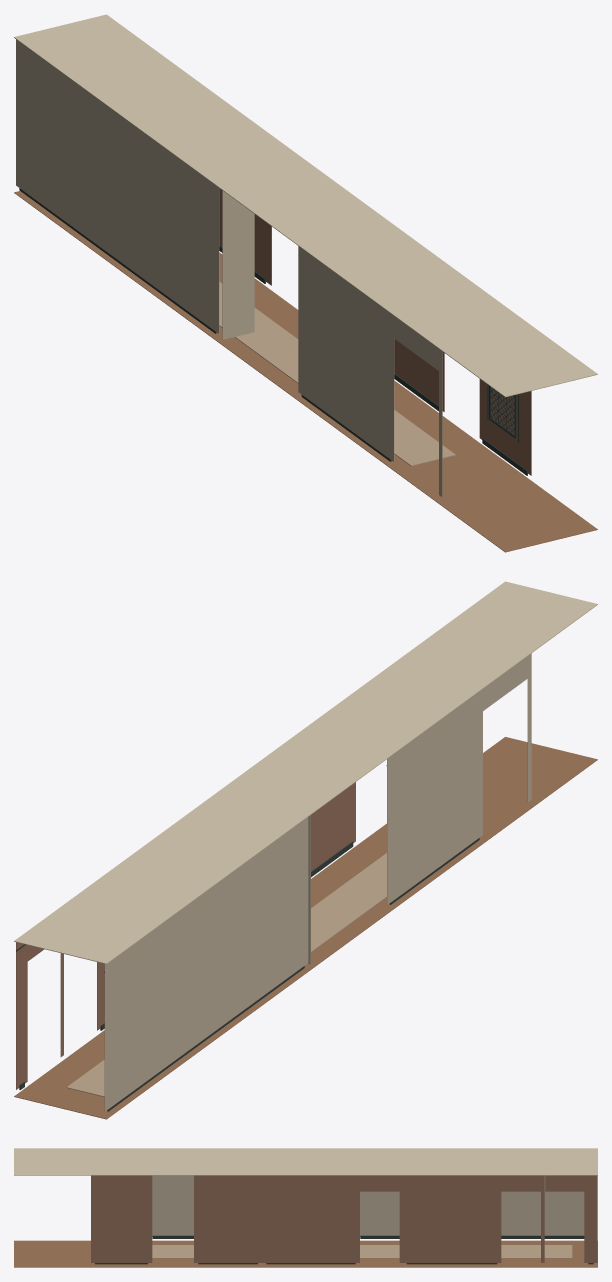
File: corridor-3.glb
The picture shows the model from 3 angles, top to bottom: view 1: azimuth 30°, elevation 25°; view 2: azimuth 150°, elevation 25°; view 3: azimuth 270°, elevation 25°; orthographic projection. The views are drawn at different scales.
Visible parts, largest first — view 1: DESIGN | Entrance coordinated ceiling, DESIGN | Entrance paired wall finish, DESIGN | Entrance floor finish, DESIGN | Entrance paired wall finish.003, DESIGN | Arch approach finish, DESIGN | Entrance quiet runner, DESIGN | Entrance paired wall finish.013, DESIGN | Entrance paired wall finish.012, DESIGN | Entrance paired wall finish.006, DESIGN | Entrance paired wall finish.002, DESIGN | Kumiko | The maker wall across from quiet plaster; view 2: DESIGN | Entrance coordinated ceiling, DESIGN | Entrance paired wall finish, DESIGN | Entrance floor finish, DESIGN | Entrance paired wall finish.003, DESIGN | Entrance quiet runner, DESIGN | Entrance paired wall finish.012, DESIGN | Entrance paired wall finish.005, DESIGN | Entrance paired wall finish.002, DESIGN | Entrance paired wall finish.001; view 3: DESIGN | Entrance coordinated ceiling, DESIGN | Entrance paired wall finish.006, DESIGN | Entrance paired wall finish.009, DESIGN | Entrance floor finish, DESIGN | Entrance paired wall finish.012, DESIGN | Entrance paired wall finish, DESIGN | Entrance paired wall finish.013, DESIGN | Entrance paired wall finish.003, DESIGN | Entrance quiet runner, DESIGN | Entrance paired wall finish.005, DESIGN | Entrance paired wall finish.007, DESIGN | Entrance paired wall finish.010 (+5 smaller).
Part boxes in pixels (bbox=[...]): DESIGN | Entrance coordinated ceiling: bbox=[14, 14, 597, 397]; DESIGN | Entrance paired wall finish: bbox=[16, 39, 219, 333]; DESIGN | Entrance floor finish: bbox=[14, 191, 597, 552]; DESIGN | Entrance paired wall finish.003: bbox=[298, 246, 394, 461]; DESIGN | Arch approach finish: bbox=[222, 190, 254, 339]; DESIGN | Entrance quiet runner: bbox=[219, 282, 455, 466]; DESIGN | Entrance paired wall finish.013: bbox=[479, 379, 531, 475]; DESIGN | Entrance paired wall finish.012: bbox=[394, 339, 444, 411]; DESIGN | Entrance paired wall finish.006: bbox=[219, 188, 268, 283]; DESIGN | Entrance paired wall finish.002: bbox=[394, 316, 438, 370]; DESIGN | Kumiko | The maker wall across from quiet plaster: bbox=[489, 385, 516, 438]; DESIGN | Entrance coordinated ceiling: bbox=[14, 581, 597, 964]; DESIGN | Entrance paired wall finish: bbox=[104, 817, 308, 1111]; DESIGN | Entrance floor finish: bbox=[14, 737, 597, 1119]; DESIGN | Entrance paired wall finish.003: bbox=[387, 689, 482, 904]; DESIGN | Entrance quiet runner: bbox=[66, 853, 386, 1096]; DESIGN | Entrance paired wall finish.012: bbox=[311, 782, 355, 871]; DESIGN | Entrance paired wall finish.005: bbox=[16, 942, 27, 1089]; DESIGN | Entrance paired wall finish.002: bbox=[483, 656, 527, 710]; DESIGN | Entrance paired wall finish.001: bbox=[527, 653, 531, 801]; DESIGN | Entrance coordinated ceiling: bbox=[14, 1148, 597, 1175]; DESIGN | Entrance paired wall finish.006: bbox=[402, 1175, 501, 1262]; DESIGN | Entrance paired wall finish.009: bbox=[262, 1175, 359, 1262]; DESIGN | Entrance floor finish: bbox=[14, 1240, 597, 1267]; DESIGN | Entrance paired wall finish.012: bbox=[194, 1175, 262, 1262]; DESIGN | Entrance paired wall finish: bbox=[360, 1176, 584, 1236]; DESIGN | Entrance paired wall finish.013: bbox=[91, 1175, 152, 1262]; DESIGN | Entrance paired wall finish.003: bbox=[152, 1175, 193, 1236]; DESIGN | Entrance quiet runner: bbox=[152, 1245, 572, 1258]; DESIGN | Entrance paired wall finish.005: bbox=[584, 1175, 597, 1262]; DESIGN | Entrance paired wall finish.007: bbox=[501, 1175, 540, 1191]; DESIGN | Entrance paired wall finish.010: bbox=[360, 1175, 399, 1191].
Bounding box in the file's own units: 1.7 × 2.73 × 15.61.
